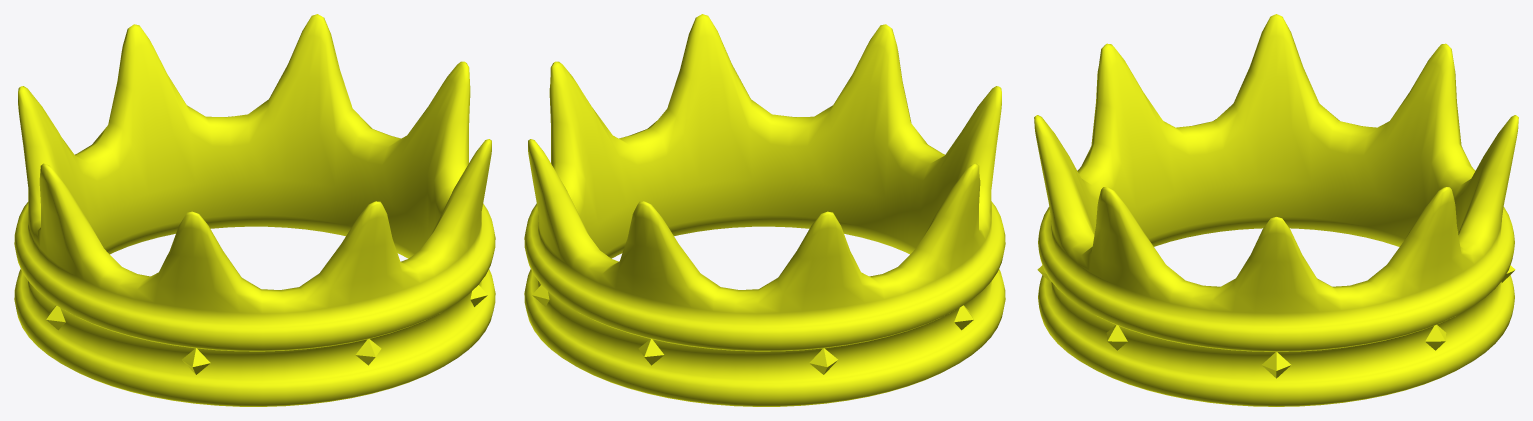
Rendered from Crown.fbx.
3 renders of one model, left to right at view 1: azimuth 30°, elevation 25°; view 2: azimuth 150°, elevation 25°; view 3: azimuth 270°, elevation 25°, orthographic.
Parts seen in each view (by area): view 1: Crown; view 2: Crown; view 3: Crown.
Boxes of the visible parts, box(x1,y1,x2,y2) form: Crown: box(14, 14, 495, 406); Crown: box(524, 14, 1005, 406); Crown: box(1034, 14, 1518, 406).
Size of the model in its own units: 0.6422 by 0.6422 by 0.2859.
